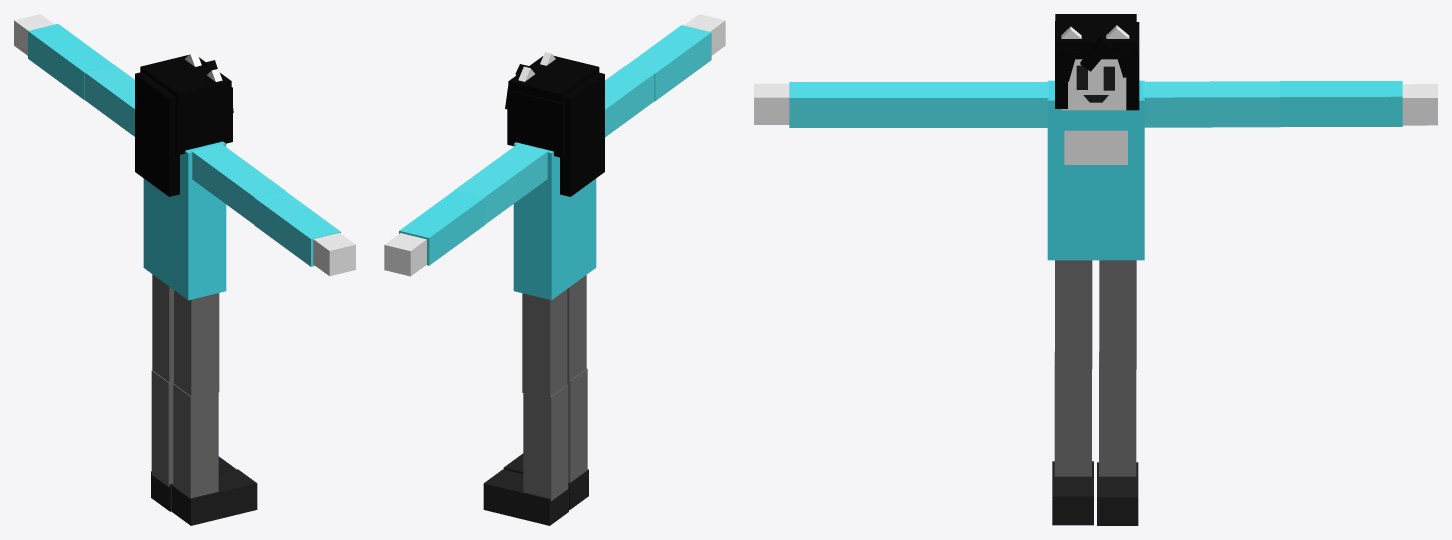
File: Sock.fbx
3 views of the same model, side by side, from view 1: azimuth 30°, elevation 25°; view 2: azimuth 150°, elevation 25°; view 3: azimuth 270°, elevation 25° (orthographic). The views are drawn at different scales.
Visible parts, largest first — view 1: Cube, Cube.004, Cube.023, Cube.003, Cube.012, Cube.011, Cube.014, Cube.022, Cube.006, Cube.015, Cube.002, Cube.018 (+4 smaller); view 2: Cube, Cube.002, Cube.001, Cube.023, Cube.015, Cube.014, Cube.011, Cube.021, Cube.005, Cube.012, Cube.018, Cube.004 (+4 smaller); view 3: Cube, Cube.015, Cube.012, Cube.011, Cube.014, Cube.001, Cube.003, Cube.004, Cube.002, Cube.018, Plane, Cube.006 (+4 smaller).
Part boxes in pixels (x1,y1,x2,y2): Cube: (143,141,226,300); Cube.004: (173,384,218,498); Cube.023: (135,72,179,196); Cube.003: (174,290,219,396); Cube.012: (191,144,285,224); Cube.011: (254,190,340,266); Cube.014: (28,24,114,100); Cube.022: (175,87,232,155); Cube.006: (172,469,257,525); Cube.015: (85,65,134,136); Cube.002: (151,370,173,486); Cube.018: (140,55,231,100); Cube: (513,142,596,300); Cube.002: (523,384,568,501); Cube.001: (522,289,567,399); Cube.023: (560,72,604,196); Cube.015: (455,143,548,223); Cube.014: (399,189,485,265); Cube.011: (626,25,711,101); Cube.021: (507,89,565,158); Cube.005: (483,469,568,525); Cube.012: (605,66,654,137); Cube.018: (508,55,599,102); Cube.004: (567,368,587,482); Cube: (1047,80,1144,260); Cube.015: (1143,81,1280,127); Cube.012: (911,82,1048,127); Cube.011: (789,82,911,127); Cube.014: (1280,81,1402,126); Cube.001: (1099,260,1136,369); Cube.003: (1055,260,1092,369); Cube.004: (1054,352,1091,476); Cube.002: (1099,352,1136,476); Cube.018: (1055,14,1136,59); Plane: (1064,130,1127,164); Cube.006: (1052,461,1093,525).
Bounding box in the file's own units: 171 × 852 × 1098.
